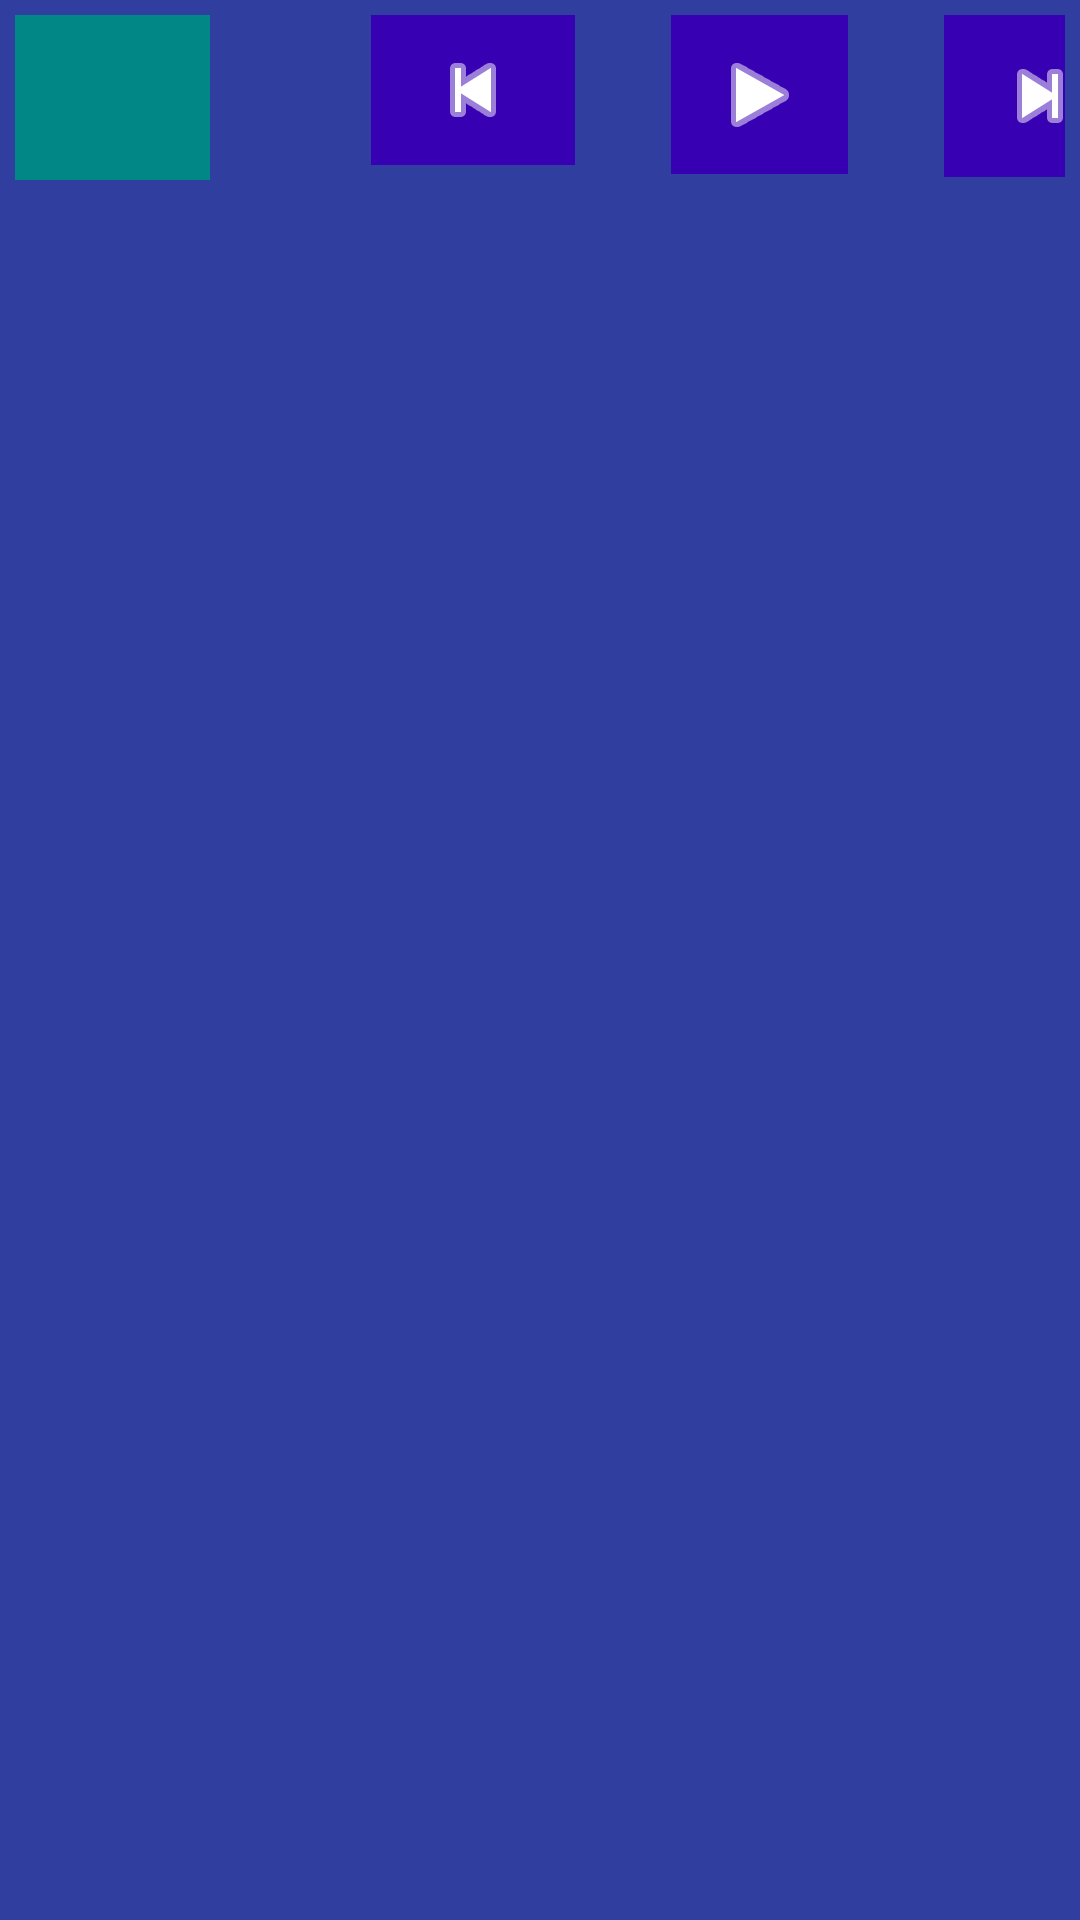

Locate icon controls on the screen. Image size 1080 × 1920, boxes as Rect(x1, y1, x2, y2).
Play/Pause: Rect(671, 15, 848, 174)
Previous: Rect(371, 15, 575, 165)
